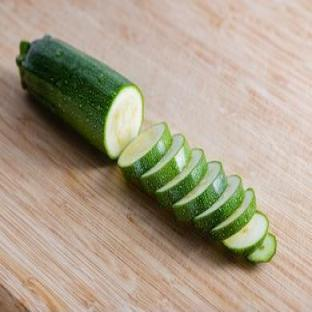Zucchini: (16, 36, 143, 158), (173, 161, 227, 221), (118, 123, 171, 179), (140, 135, 190, 194), (156, 149, 207, 206), (194, 176, 244, 232), (211, 189, 255, 239), (224, 212, 268, 255), (248, 233, 276, 262)
